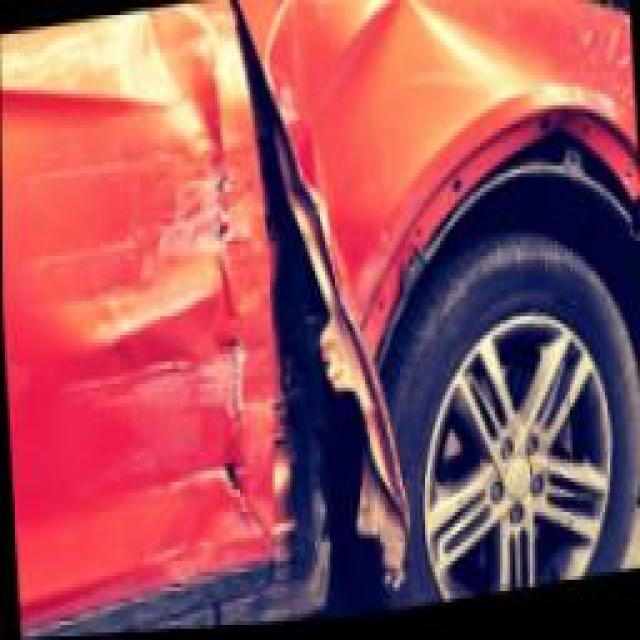Door: (46, 0, 397, 637)
Fender: (240, 0, 557, 329)
